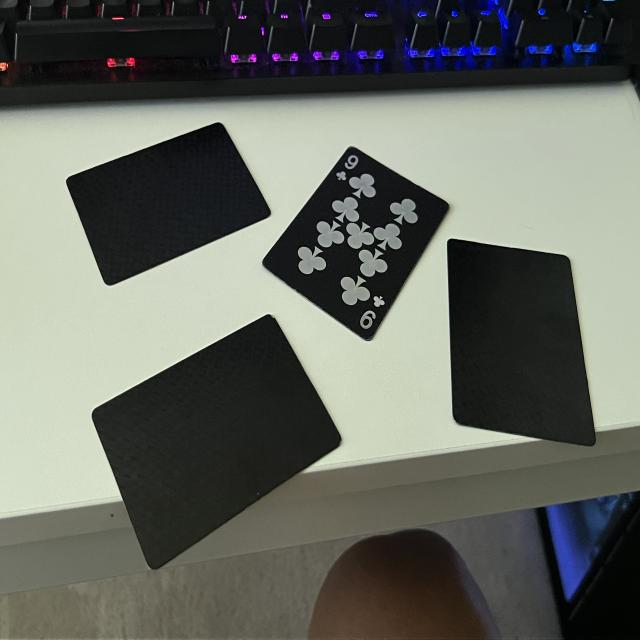9C: (358, 294, 388, 333), (335, 149, 360, 186)
BACK: (87, 306, 353, 579), (62, 113, 281, 292), (447, 236, 601, 451)
